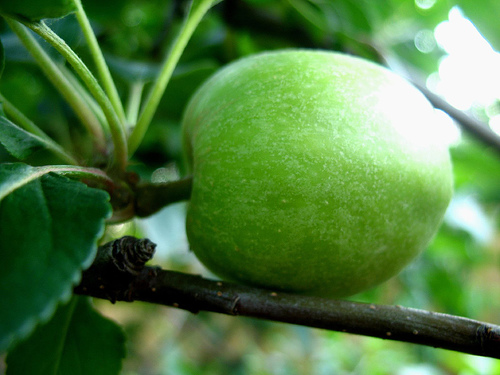apple: (137, 50, 455, 298)
